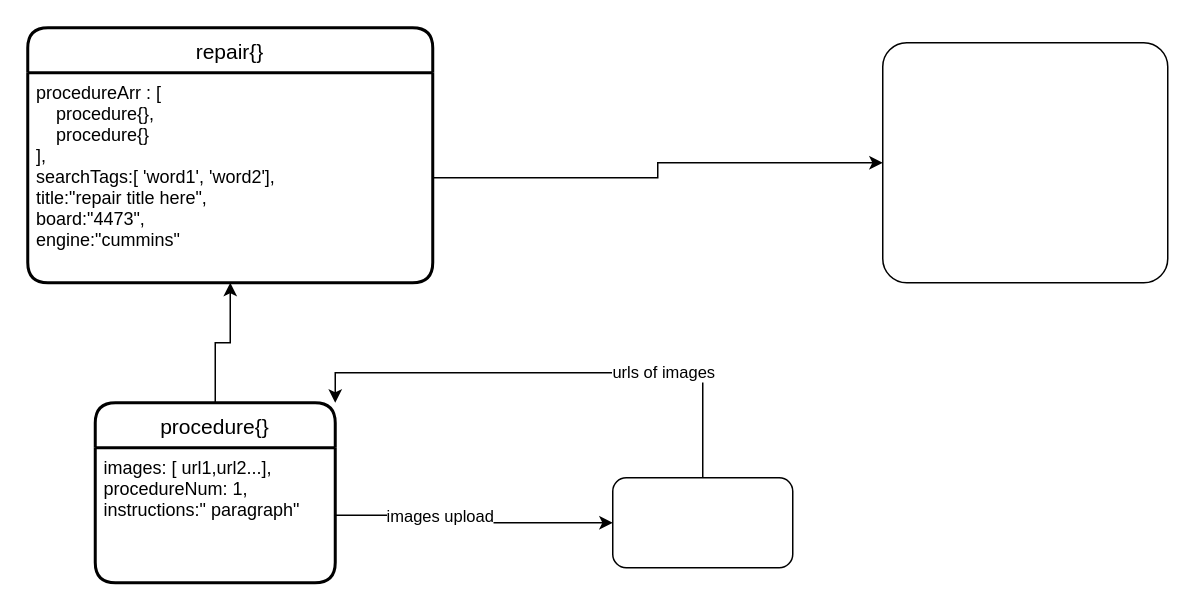
This 1194x609 diagram has some shape labels left out. The shapes that lost their labels are listed below. From the top down, each one's centre as x and y in pixels, then its label:
At (x=1024, y=162): "MONGO DB".
At (x=702, y=522): "Cloudinary DB".
